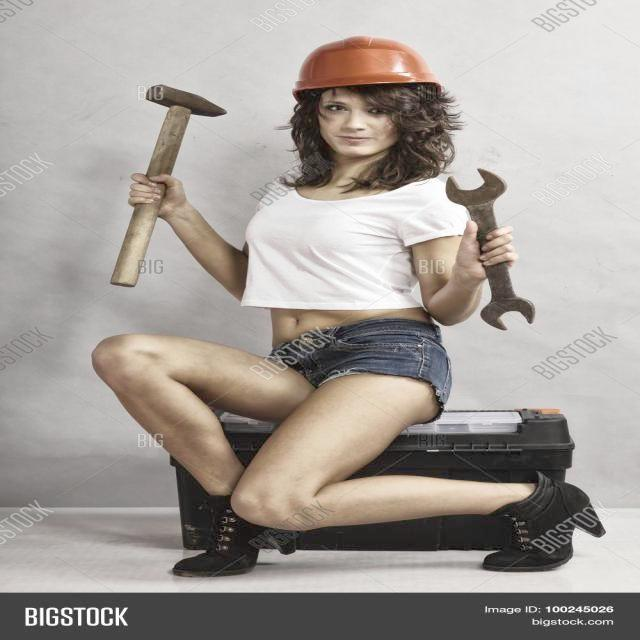hammer: (106, 75, 235, 312)
